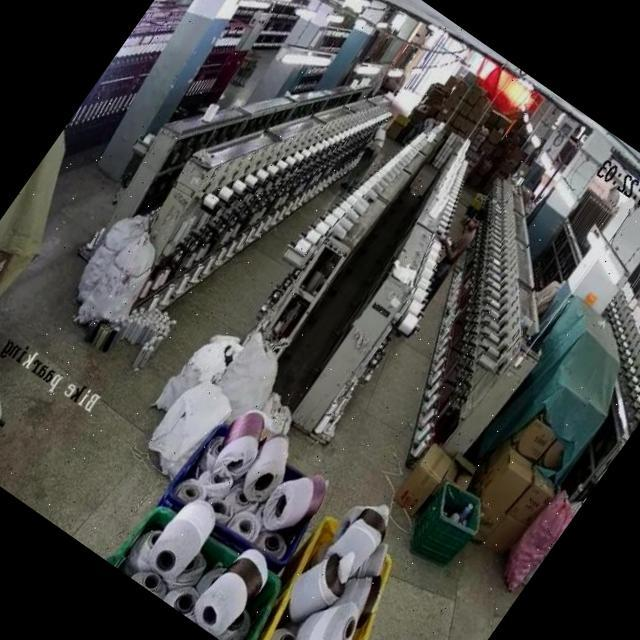person: (422, 196, 496, 292), (334, 121, 394, 194)
